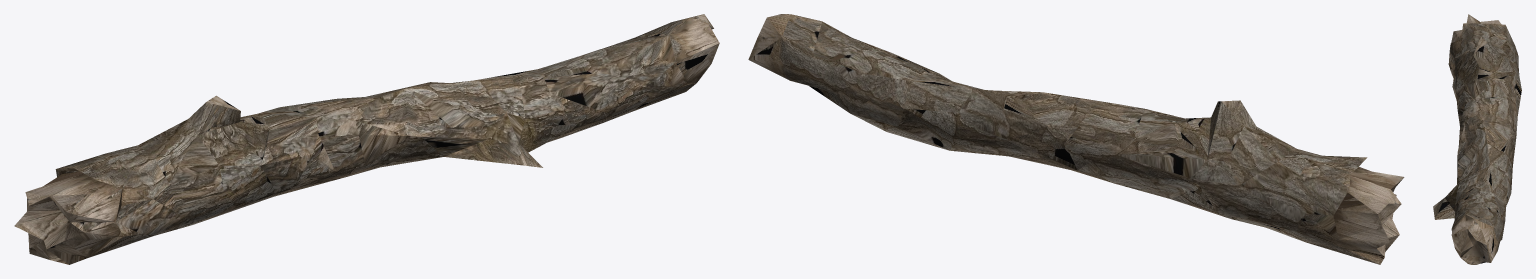
The model's file is co_fallen_log_lod1.glb.
3 views of the same model, side by side, from view 1: azimuth 30°, elevation 25°; view 2: azimuth 150°, elevation 25°; view 3: azimuth 270°, elevation 25° (orthographic). The views are drawn at different scales.
Visible parts, largest first — view 1: output_unwrapped; view 2: output_unwrapped; view 3: output_unwrapped.
Part boxes in pixels (x1,y1,x2,y2): output_unwrapped: (14, 14, 719, 264); output_unwrapped: (748, 14, 1404, 264); output_unwrapped: (1433, 14, 1521, 264).
Size of the model in its own units: 1.89 by 0.3306 by 0.3051.
Materials: 1 (1 with a texture image).
